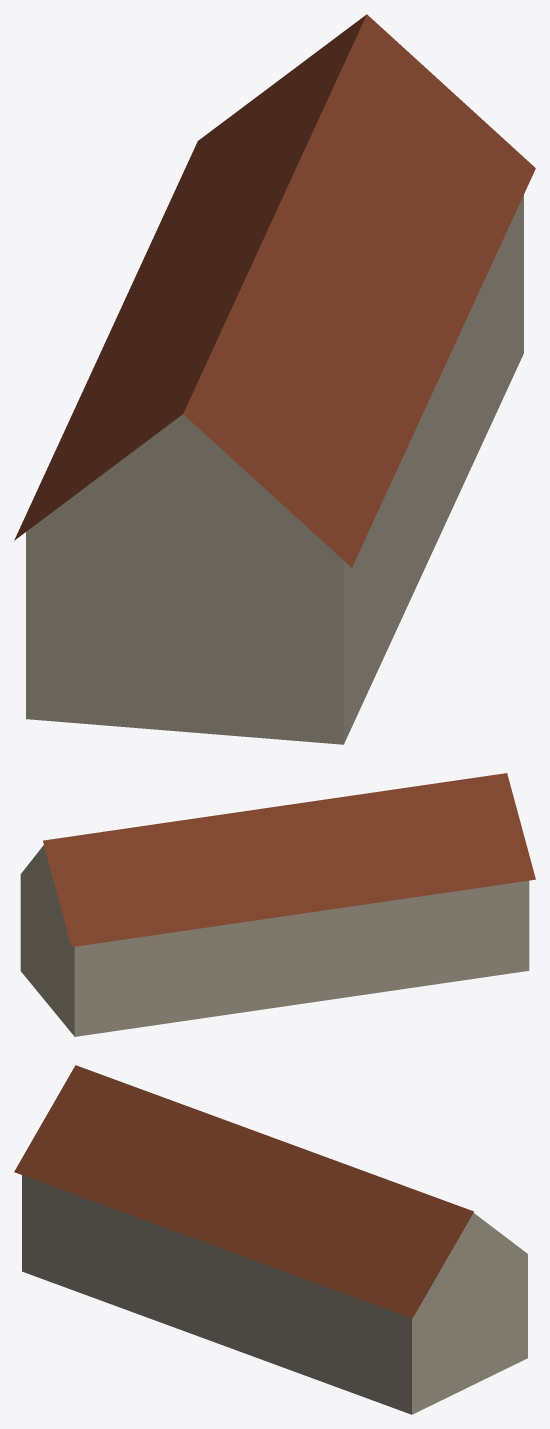
3 views of the same model, one above another, from view 1: azimuth 30°, elevation 25°; view 2: azimuth 150°, elevation 25°; view 3: azimuth 270°, elevation 25° (orthographic). The views are drawn at different scales.
Visible parts, largest first — view 1: buildings; view 2: buildings; view 3: buildings.
Boxes of the visible parts, x1=… form: buildings: x1=14, y1=14, x2=535, y2=744; buildings: x1=20, y1=773, x2=535, y2=1036; buildings: x1=14, y1=1065, x2=527, y2=1414.
Size of the model in its own units: 25.97 by 10.34 by 27.7.
